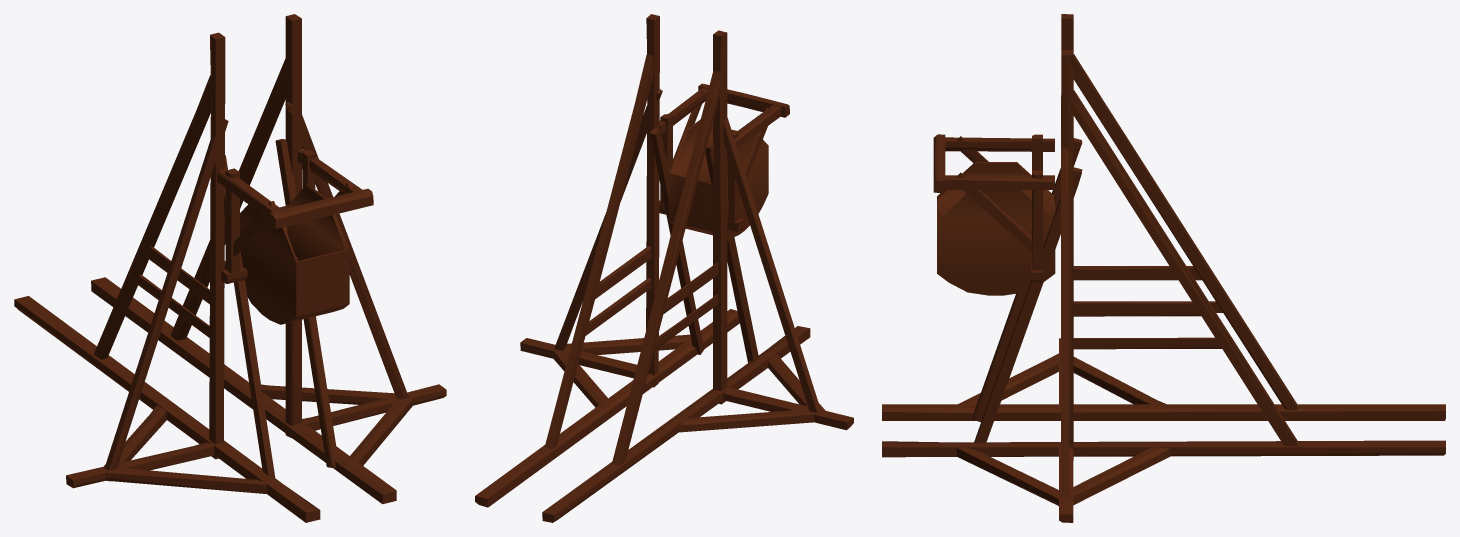
File: SM_trebuchet_base.fbx
The picture shows the model from 3 angles, left to right: view 1: azimuth 30°, elevation 25°; view 2: azimuth 150°, elevation 25°; view 3: azimuth 270°, elevation 25°; orthographic projection. The views are drawn at different scales.
Parts seen in each view (by area): view 1: Object210; view 2: Object210; view 3: Object210.
Boxes of the visible parts, x1,y1,x2,y2 form: Object210: (14,14,446,522); Object210: (475,14,853,522); Object210: (882,14,1445,522).
Bounding box in the file's own units: 233 × 315 × 250.
